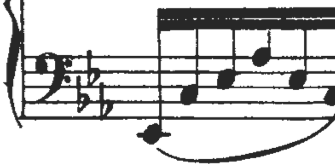bass_clef: (27, 44, 76, 110)
flat: (81, 46, 103, 89), (72, 72, 93, 117), (96, 81, 116, 125)
